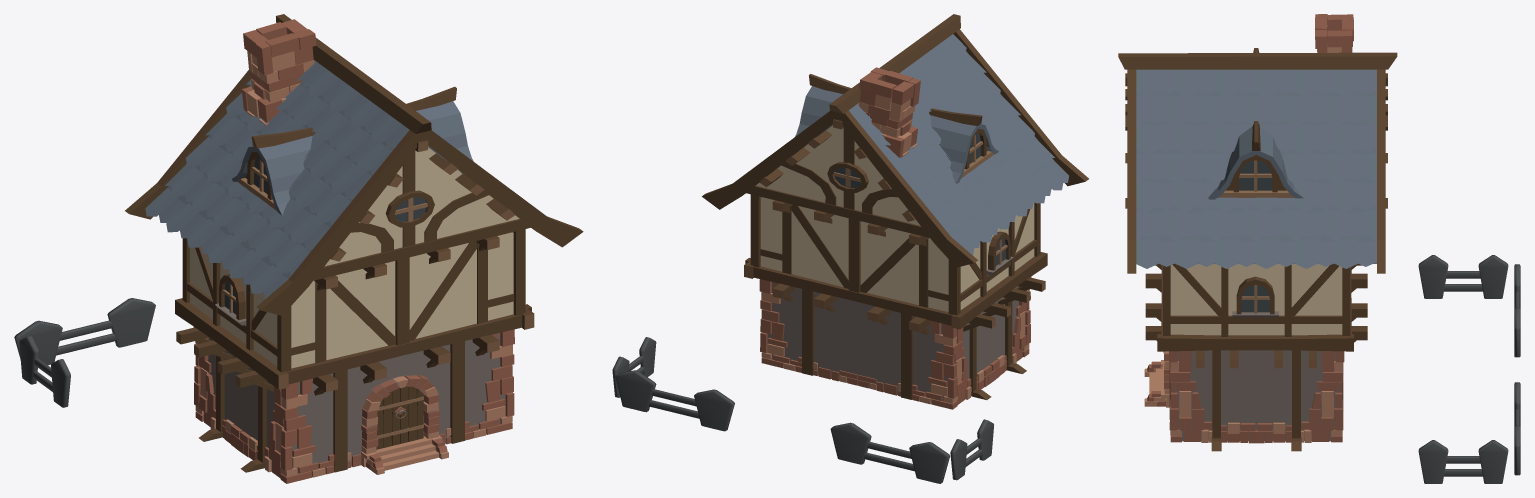
The model's file is london_house_1.glb.
3 views of the same model, side by side, from view 1: azimuth 30°, elevation 25°; view 2: azimuth 150°, elevation 25°; view 3: azimuth 270°, elevation 25° (orthographic). The views are drawn at different scales.
Visible parts, largest first — view 1: House_1, fence_straight (×2); view 2: House_1, fence_straight (×4); view 3: House_1, fence_straight (×4).
Boxes of the visible parts, left/top/right/bottom form: House_1: left=125, top=14, right=583, bottom=483; fence_straight (×2): left=14, top=298, right=155, bottom=407; House_1: left=702, top=14, right=1088, bottom=409; fence_straight (×4): left=612, top=337, right=993, bottom=483; House_1: left=1118, top=14, right=1397, bottom=451; fence_straight (×4): left=1418, top=255, right=1520, bottom=483.
Bounding box in the file's own units: 14.81 × 12.88 × 13.41.
